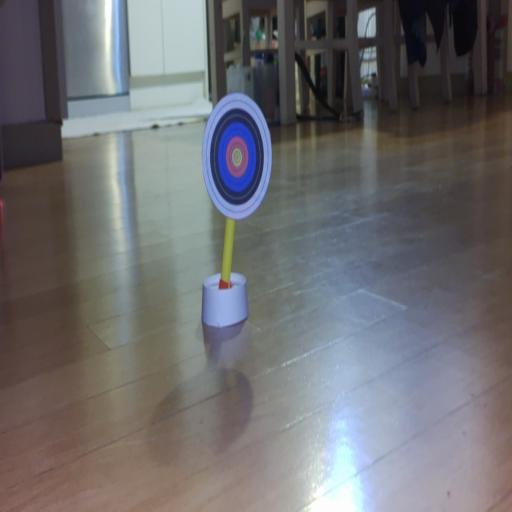target: (203, 93, 271, 219)
